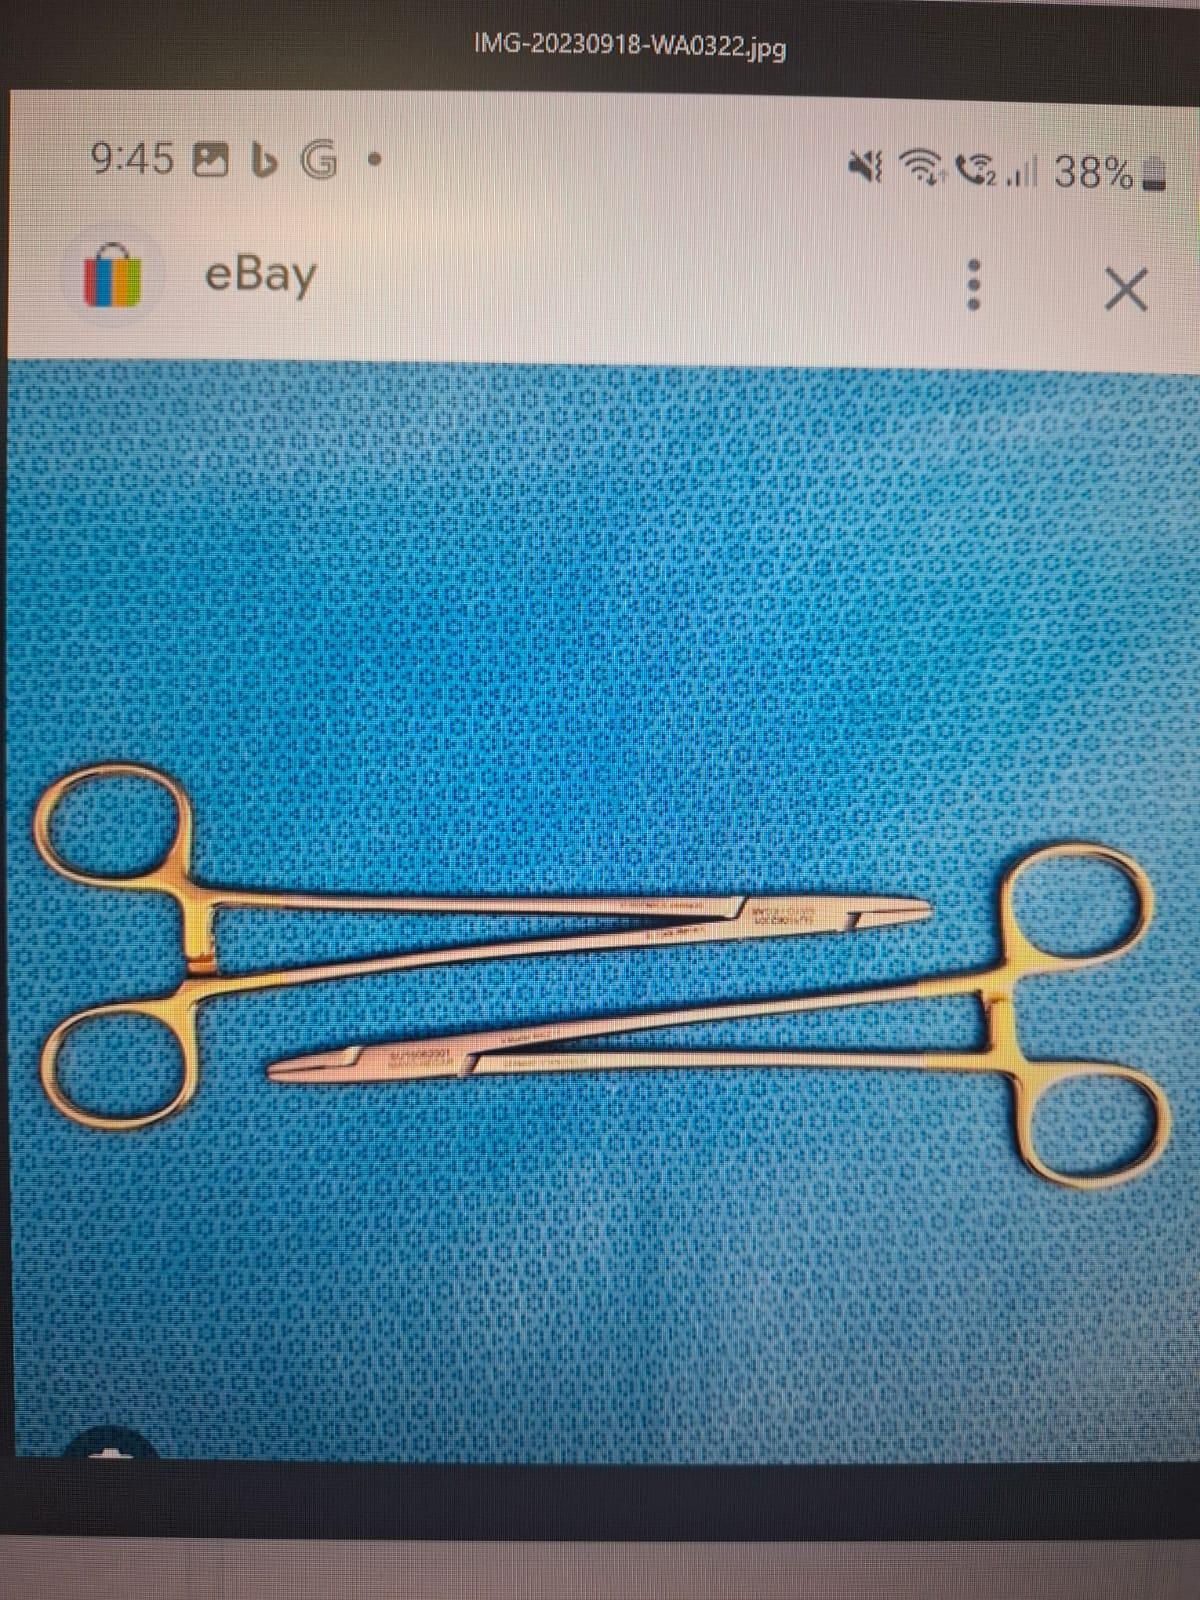Needle Holder: (25, 721, 940, 1143), (257, 835, 1177, 1198)
